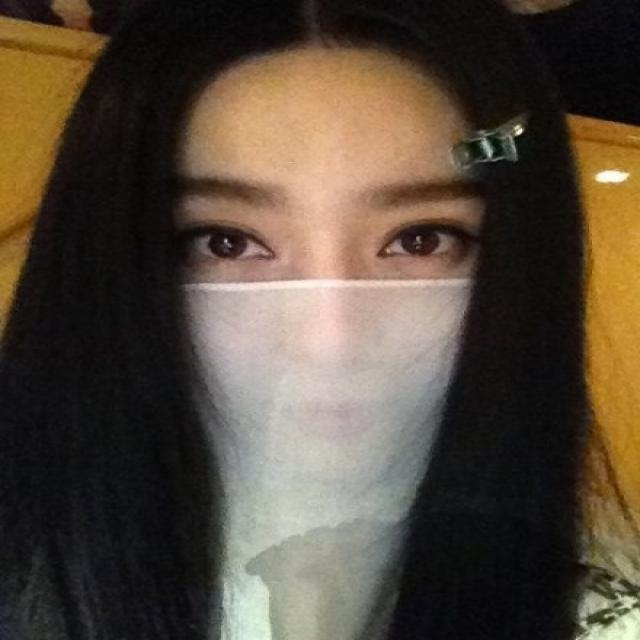mask: (149, 45, 488, 468)
